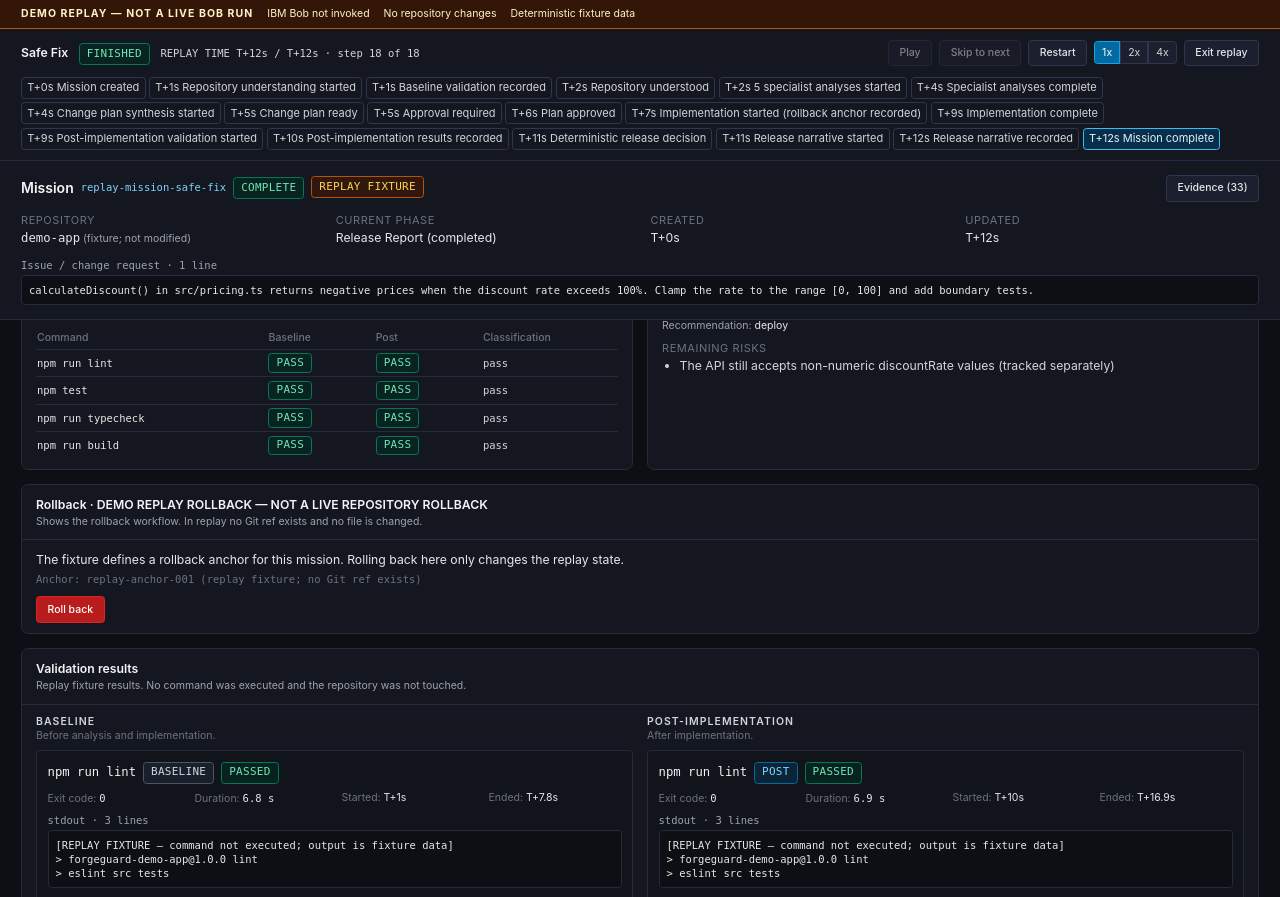
scenario rendering › 7. replay rollback: available after the mission, then shown as a replay-only rollback that changed no files
(page scrolled)
Expected: the heading "Rollback · DEMO REPLAY ROLLBACK — NOT A LIVE REPOSITORY ROLLBACK" is shown, [36,496,488,513]
Click the button "Roll back".
click(70, 610)  # box [36,596,105,623]
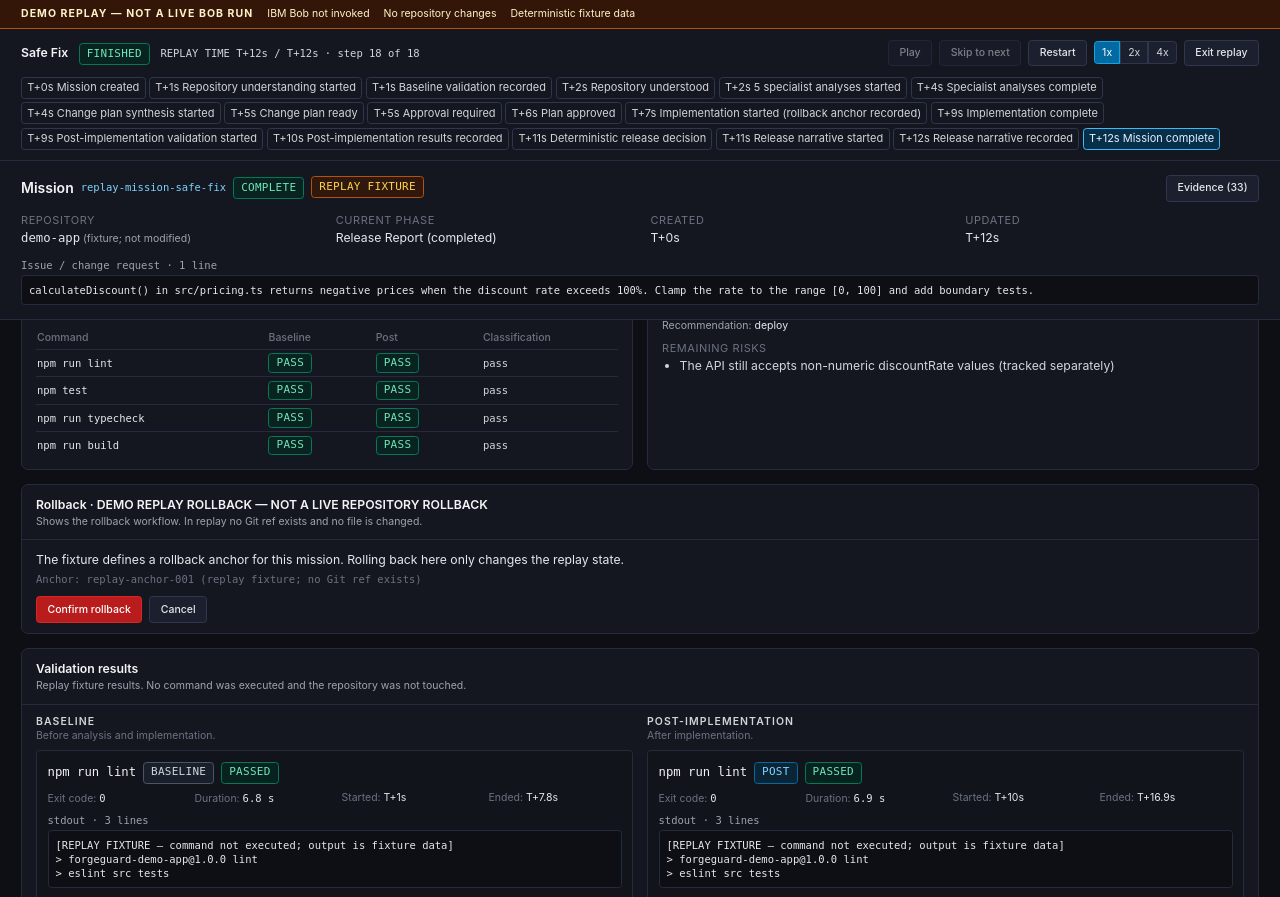
Click the button "Confirm rollback".
click(89, 610)  # box [36,596,142,623]
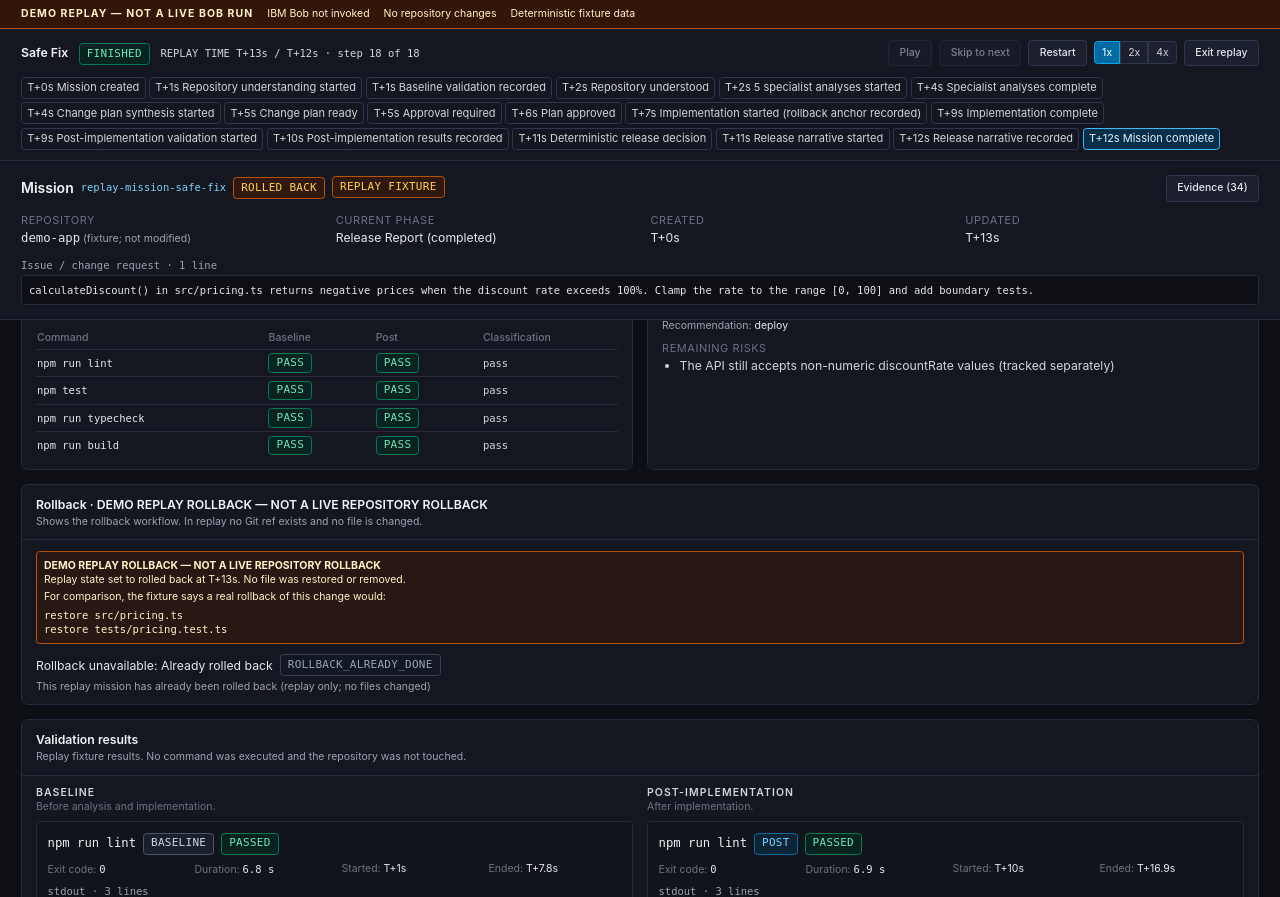
Result: the message with test id "replay-rollback-outcome" shows "DEMO REPLAY ROLLBACK — NOT A LIVE REPOSITORY ROLLBACK" at [44,559,381,572]
Result: the message with test id "replay-rollback-outcome" shows "No file was restored or removed." at [238,573,406,586]
Result: the message with test id "replay-rollback-outcome" shows "restore src/pricing.ts" at [36,551,1244,644]
